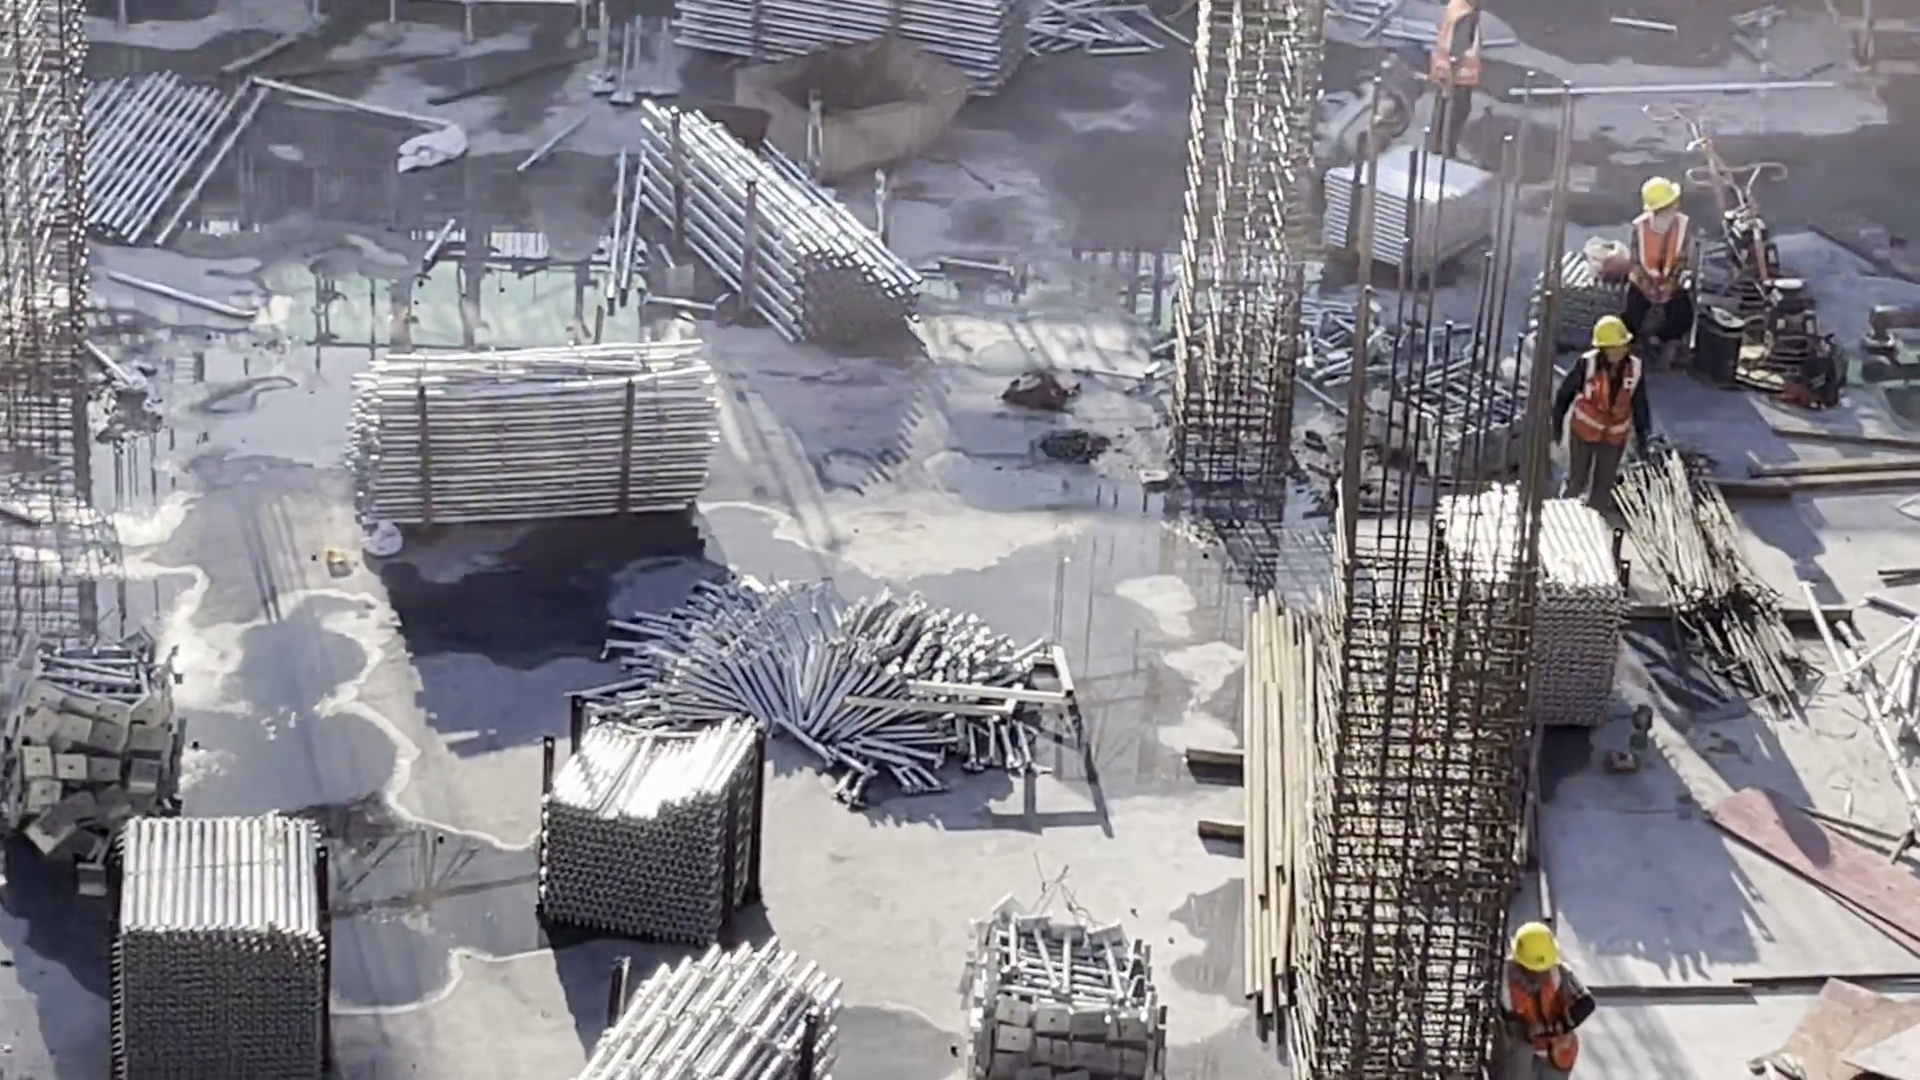helmet: (1500, 920, 1566, 976), (1638, 174, 1688, 216), (1596, 306, 1637, 349)
hopper: (722, 32, 967, 185)
person: (1559, 306, 1667, 519), (1618, 172, 1703, 371), (1497, 920, 1592, 1076), (1441, 1, 1480, 178)
scaffold: (610, 540, 1043, 787), (644, 104, 919, 368), (97, 798, 356, 1078), (347, 345, 725, 524), (1363, 485, 1621, 730), (1, 611, 194, 883), (525, 695, 748, 927), (11, 65, 256, 255), (947, 897, 1183, 1080), (558, 943, 860, 1080), (679, 1, 1043, 99), (1318, 304, 1524, 468), (1326, 116, 1506, 281)
vest: (1561, 345, 1642, 441), (1504, 972, 1580, 1070), (1628, 203, 1698, 293), (1428, 1, 1486, 88)
